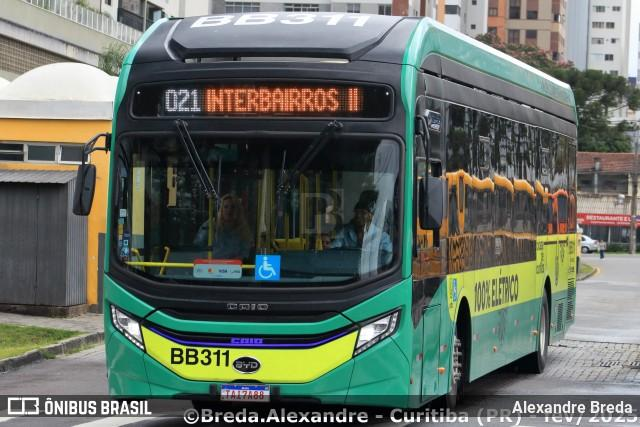INTERBAIRROS II: (203, 84, 365, 115)
